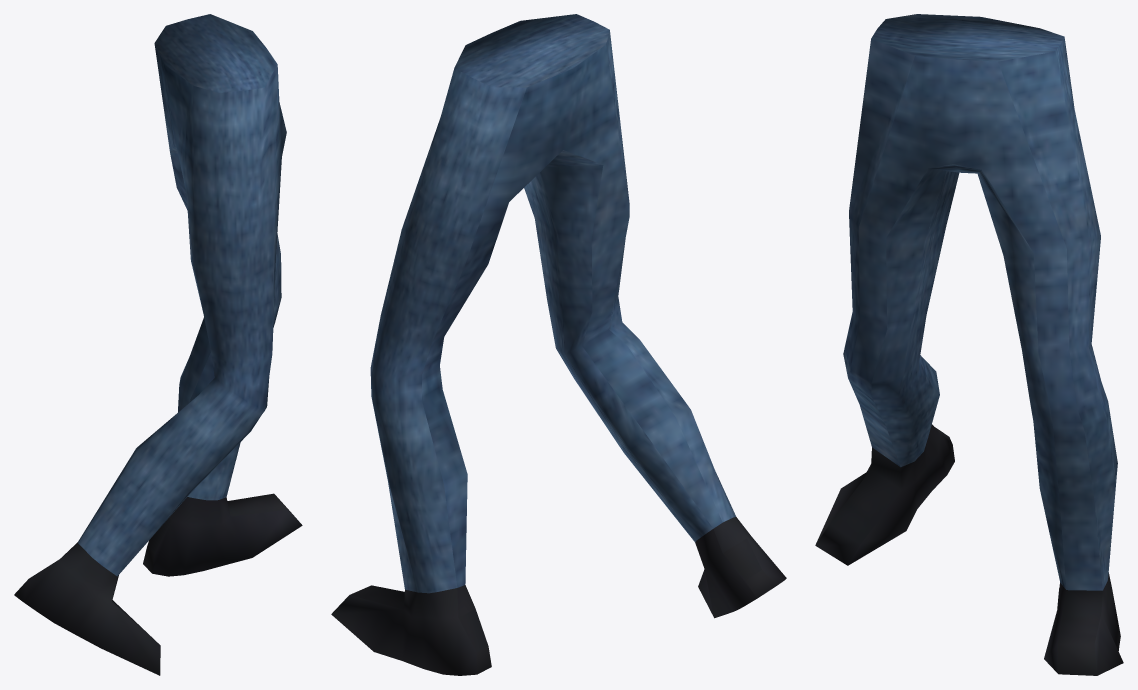
The model's file is PlayerLegs3.obj.
The picture shows the model from 3 angles, left to right: view 1: azimuth 30°, elevation 25°; view 2: azimuth 150°, elevation 25°; view 3: azimuth 270°, elevation 25°; orthographic projection. The views are drawn at different scales.
Visible parts, largest first — view 1: Legs; view 2: Legs; view 3: Legs.
Part boxes in pixels (box(x1,y1,x2,y2)): Legs: box(14, 14, 302, 675); Legs: box(331, 14, 786, 675); Legs: box(815, 14, 1123, 675).
Bounding box in the file's own units: 3.1 × 4.68 × 2.2.
Materials: 1 (1 with a texture image).
